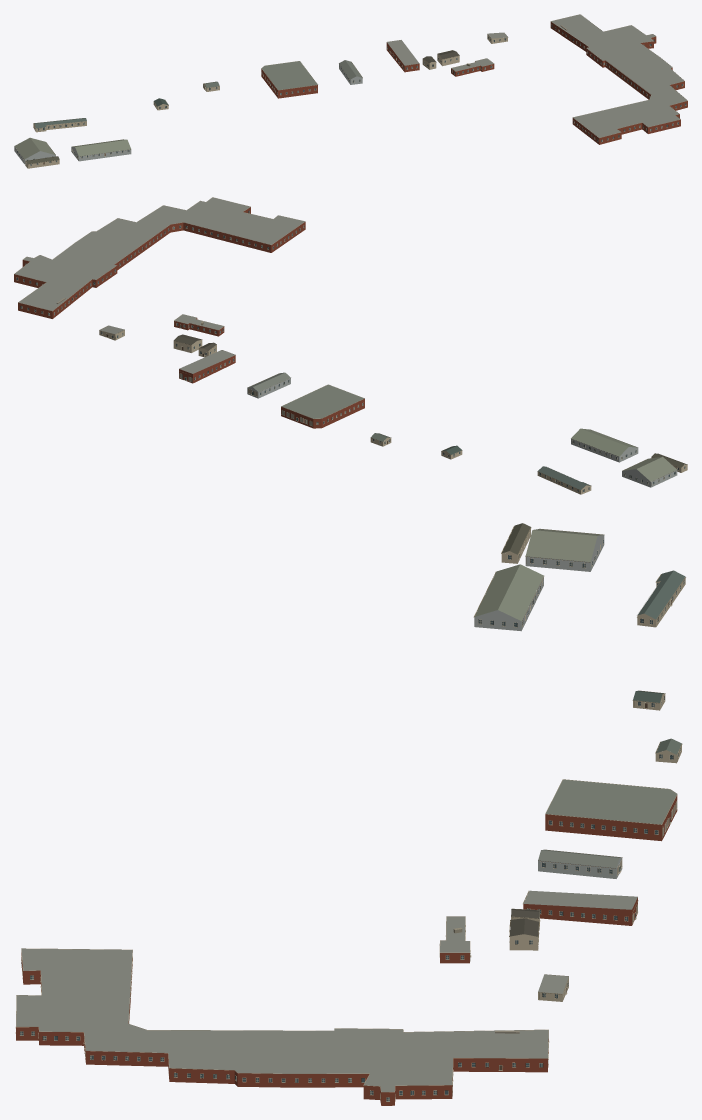
3 renders of one model, top to bottom at view 1: azimuth 30°, elevation 25°; view 2: azimuth 150°, elevation 25°; view 3: azimuth 270°, elevation 25°, orthographic. The views are drawn at different scales.
Parts seen in each view (by area): view 1: 1_1_322994063_0, 1_1_322994186_2, 1_1_322994064_1; view 2: 1_1_322994063_0, 1_1_322994064_1, 1_1_322994186_2; view 3: 1_1_322994063_0, 1_1_322994064_1, 1_1_322994186_2.
Part boxes in pixels (x1=…): 1_1_322994063_0: x1=14, y1=14, x2=687, y2=166; 1_1_322994186_2: x1=25, y1=34, x2=507, y2=168; 1_1_322994064_1: x1=14, y1=64, x2=362, y2=164; 1_1_322994063_0: x1=14, y1=197, x2=687, y2=492; 1_1_322994064_1: x1=247, y1=377, x2=677, y2=487; 1_1_322994186_2: x1=99, y1=325, x2=687, y2=494; 1_1_322994063_0: x1=15, y1=523, x2=685, y2=1105; 1_1_322994064_1: x1=474, y1=535, x2=622, y2=878; 1_1_322994186_2: x1=499, y1=527, x2=685, y2=1070.
Size of the model in its own units: 521 by 13.21 by 254.
